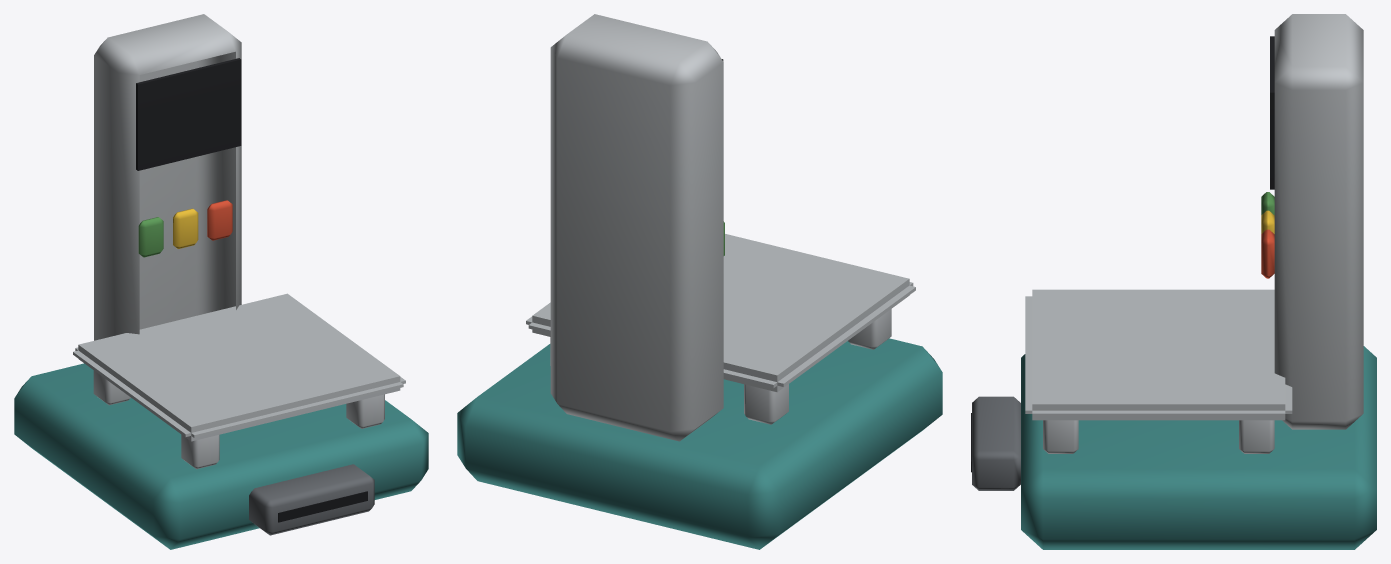
The model's file is DeliScale_Printer_01.glb.
3 views of the same model, side by side, from view 1: azimuth 30°, elevation 25°; view 2: azimuth 150°, elevation 25°; view 3: azimuth 270°, elevation 25° (orthographic). The views are drawn at different scales.
Visible parts, largest first — view 1: SM_DeliScale_Printer_01; view 2: SM_DeliScale_Printer_01; view 3: SM_DeliScale_Printer_01.
Boxes of the visible parts, x1,y1,x2,y2 form: SM_DeliScale_Printer_01: (14, 14, 428, 549); SM_DeliScale_Printer_01: (457, 14, 942, 549); SM_DeliScale_Printer_01: (971, 14, 1376, 549).
Size of the model in its own units: 0.4 by 0.55 by 0.456.
1 material, 1 textured.
